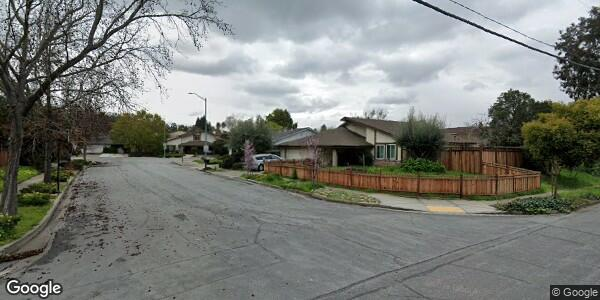Steel_Pole: (185, 90, 209, 171)
